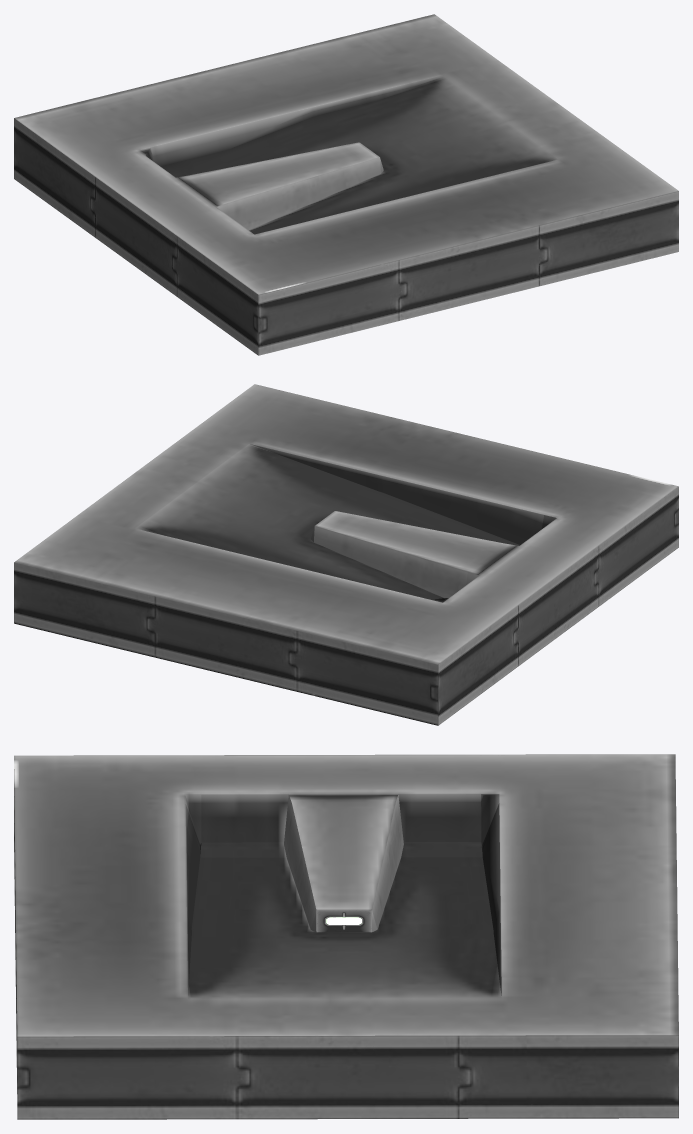
File: ARC1110033.fbx
The picture shows the model from 3 angles, top to bottom: view 1: azimuth 30°, elevation 25°; view 2: azimuth 150°, elevation 25°; view 3: azimuth 270°, elevation 25°; orthographic projection. The views are drawn at different scales.
Visible parts, largest first — view 1: smARC1110033; view 2: smARC1110033; view 3: smARC1110033.
Part boxes in pixels (box(x1,y1,x2,y2)): smARC1110033: box(14, 14, 678, 355); smARC1110033: box(14, 384, 678, 725); smARC1110033: box(14, 754, 678, 1119).
Bounding box in the file's own units: 114 × 15.72 × 114.
1 material, 1 textured.
